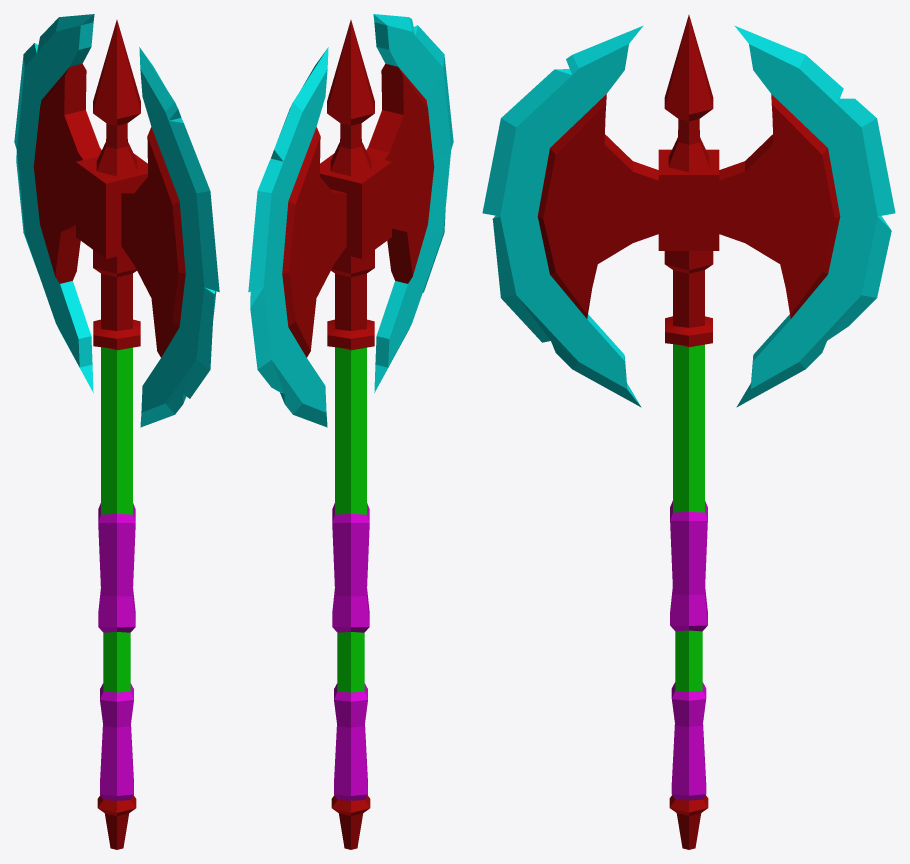
The model's file is Axe_Rare_CorvinianDouble.fbx.
The picture shows the model from 3 angles, left to right: view 1: azimuth 30°, elevation 25°; view 2: azimuth 150°, elevation 25°; view 3: azimuth 270°, elevation 25°; orthographic projection.
Visible parts, largest first — view 1: SM_Wep_Ornate_Axe_02; view 2: SM_Wep_Ornate_Axe_02; view 3: SM_Wep_Ornate_Axe_02.
Boxes of the visible parts, <box> form: SM_Wep_Ornate_Axe_02: <box>14,14,219,849</box>; SM_Wep_Ornate_Axe_02: <box>248,14,453,849</box>; SM_Wep_Ornate_Axe_02: <box>482,15,895,849</box>.
Bounding box in the file's own units: 0.0714 × 1.08 × 0.487.
